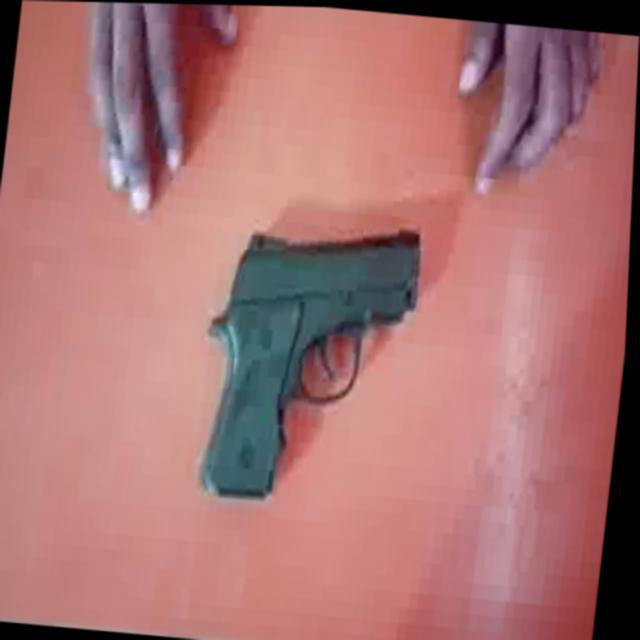weapon: (192, 203, 430, 512)
